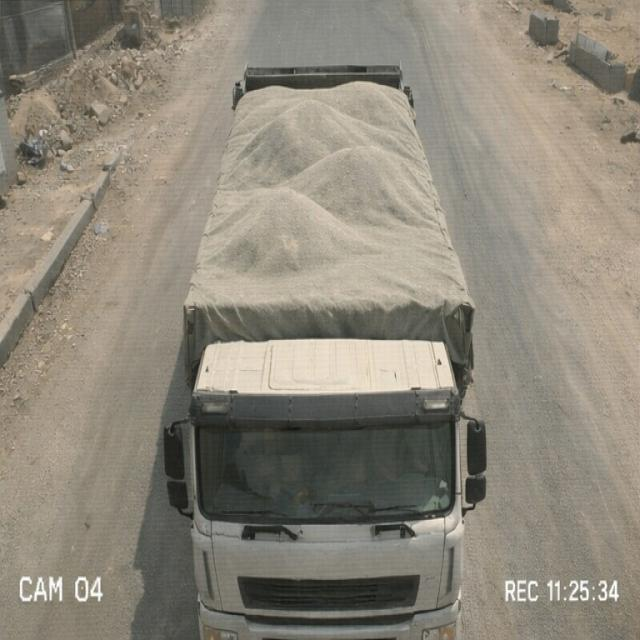Box: (182, 71, 473, 325)
Truck: (166, 43, 490, 640)
